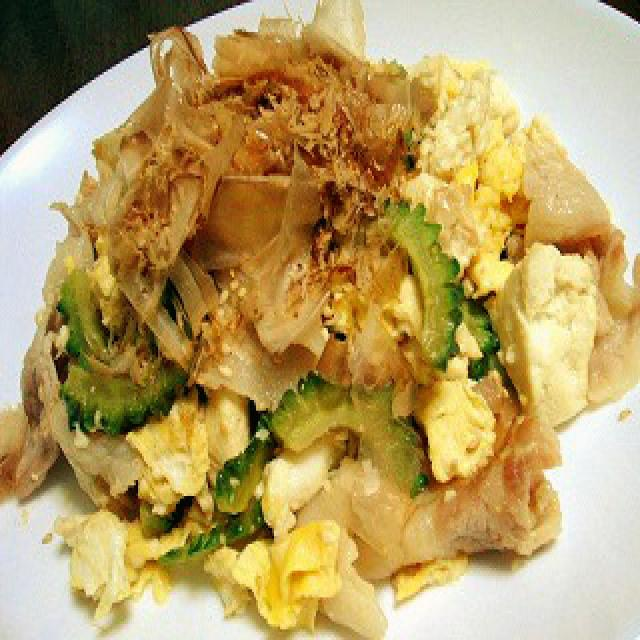熟制海鲜: (0, 0, 638, 635)
